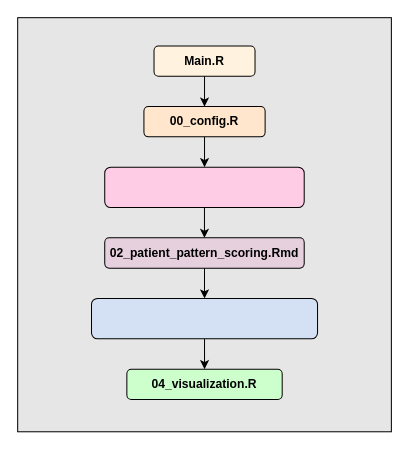
The diagram is 409 pixels wide and 449 high, and some of its shapes have lost their labels. Each missing label, with the box of its shape:
01_hierarchical_clustering.Rmd (Jaccard & Ward.D2): (104, 166, 304, 208)
03_epidemiological_validation.Rmd (Conditional Logistic Regression): (90, 297, 318, 339)
